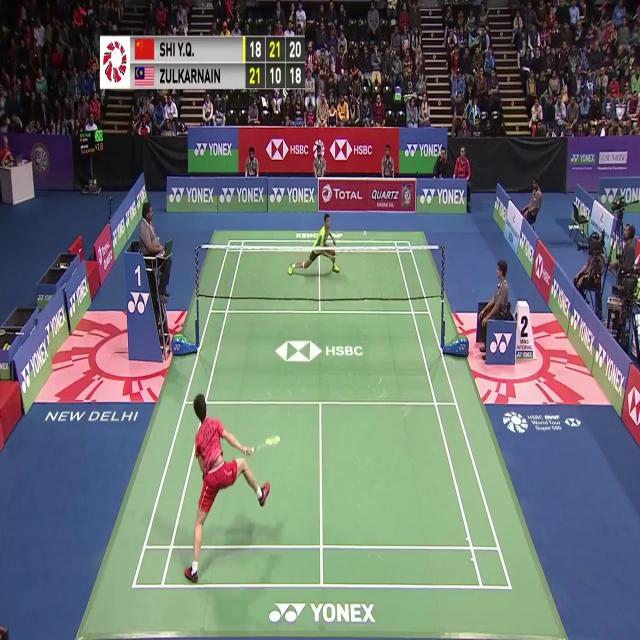Shuttlecock: (363, 227, 370, 239)
